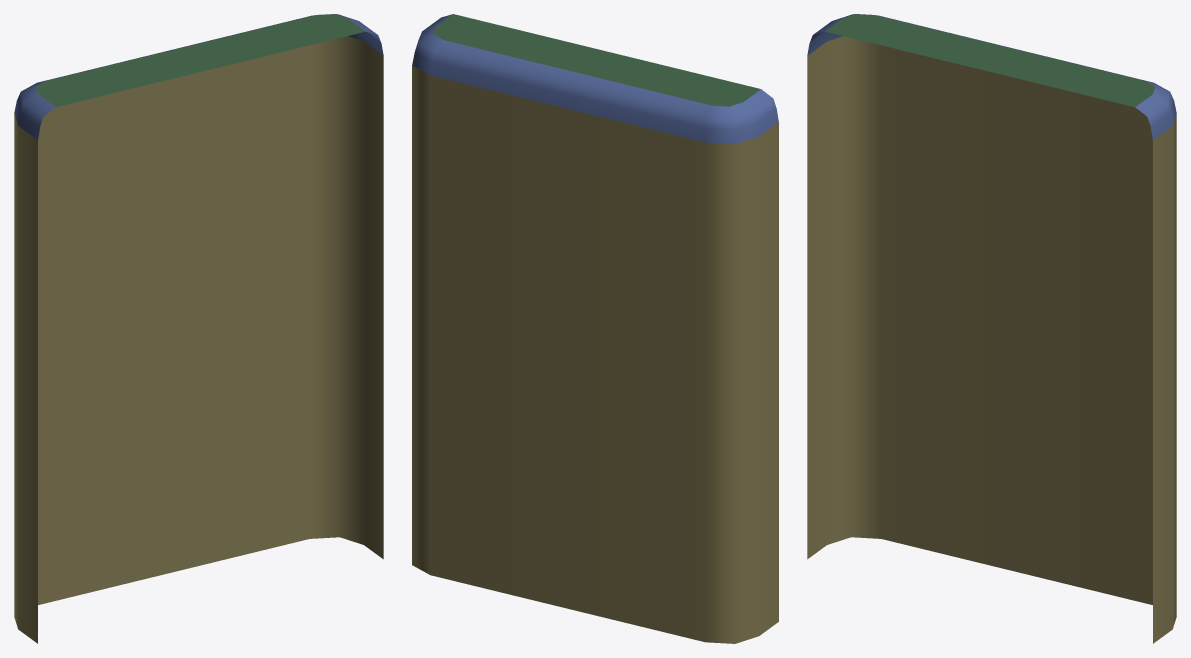
File: Mini_plat_2.fbx
The picture shows the model from 3 angles, left to right: view 1: azimuth 30°, elevation 25°; view 2: azimuth 150°, elevation 25°; view 3: azimuth 330°, elevation 25°; orthographic projection.
Parts seen in each view (by area): view 1: Mini_plat_2, Ground4, Wall4; view 2: Mini_plat_2, Wall4, Ground4; view 3: Mini_plat_2, Ground4, Wall4.
Boxes of the visible parts, x1,y1,x2,y2 form: Mini_plat_2: (14,36,383,643); Ground4: (36,14,365,106); Wall4: (14,14,383,139); Mini_plat_2: (412,65,778,643); Wall4: (412,14,778,143); Ground4: (433,14,760,106); Mini_plat_2: (807,36,1176,643); Ground4: (825,14,1154,106); Wall4: (807,14,1176,139).
Bounding box in the file's own units: 3407 × 5013 × 678.
